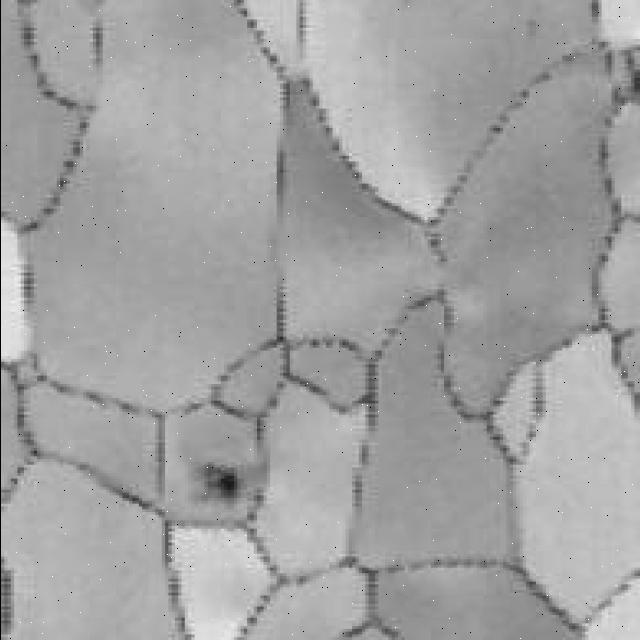good_void: (191, 456, 248, 504)
